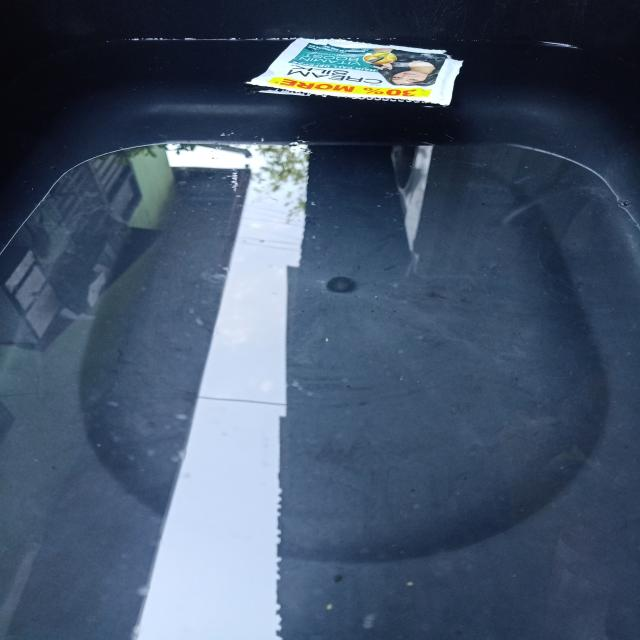Plastic Wrapper: (230, 24, 476, 126)
